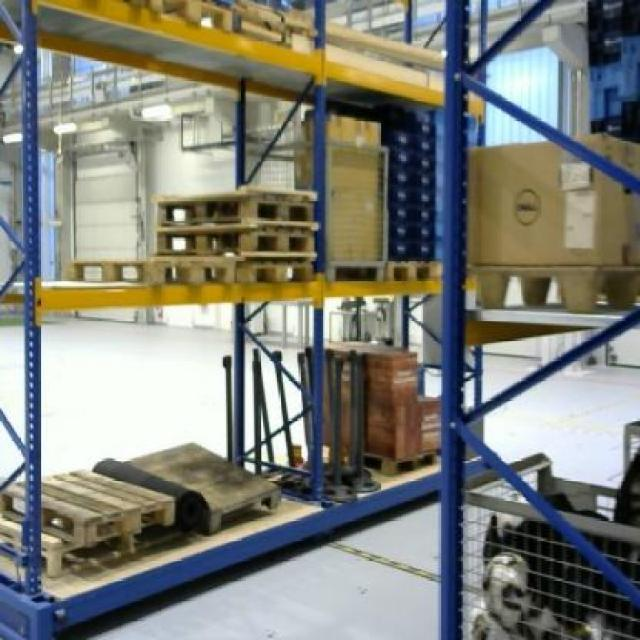box: (466, 131, 640, 264), (324, 113, 379, 258)
